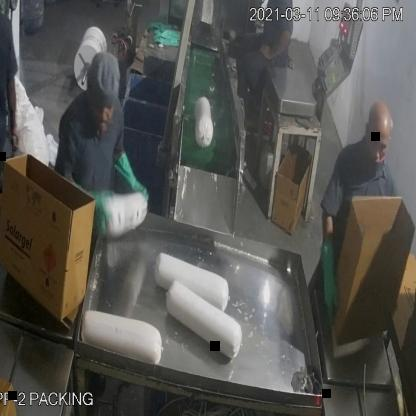glove: (319, 229, 341, 332)
no_glove: (259, 27, 298, 70), (8, 67, 23, 160)
